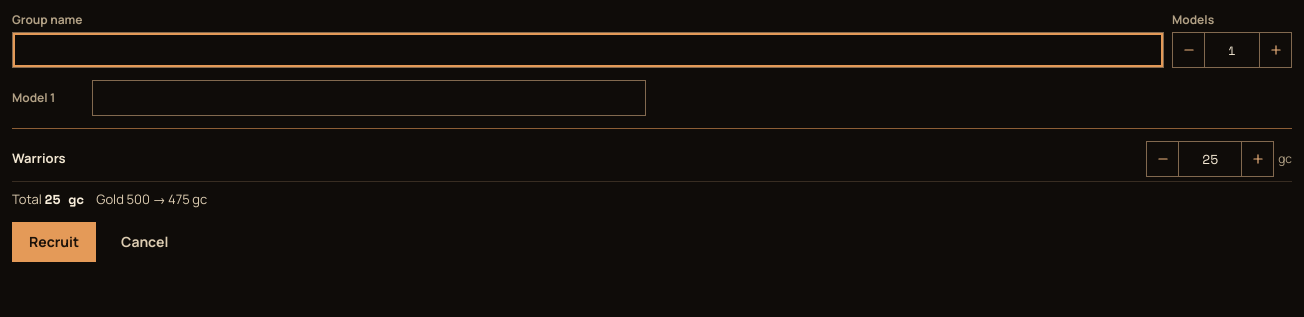
Test case: Naming a group's models as it is recruited from the list › puts the cursor in the group's name first when both are blank
This screenshot has width=1304, height=317.
Click the button "Recruit" at (54, 242), box [12, 222, 96, 262]
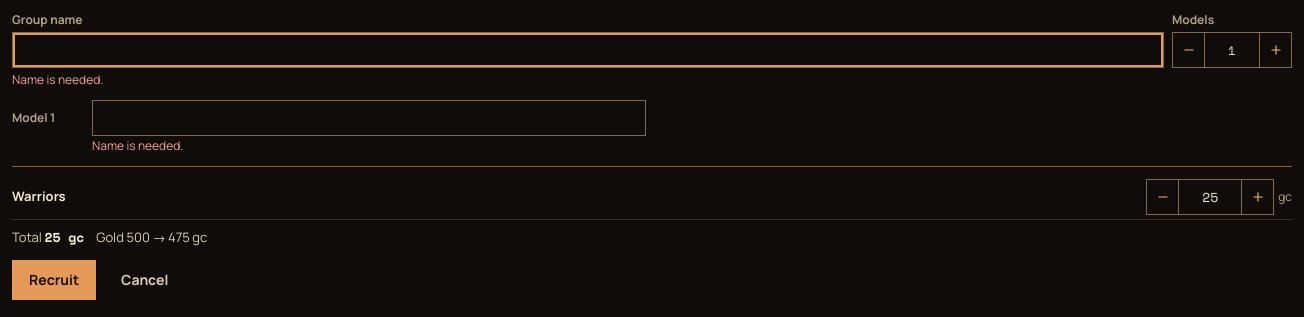
expect the text "Name is needed." is shown 2 times: met, box [12, 71, 103, 88]; [92, 137, 183, 154]
